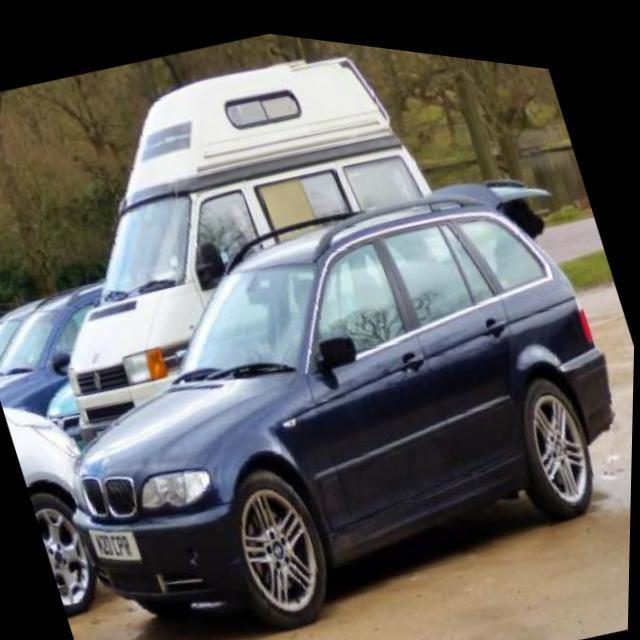license_plate: (89, 511, 148, 574)
